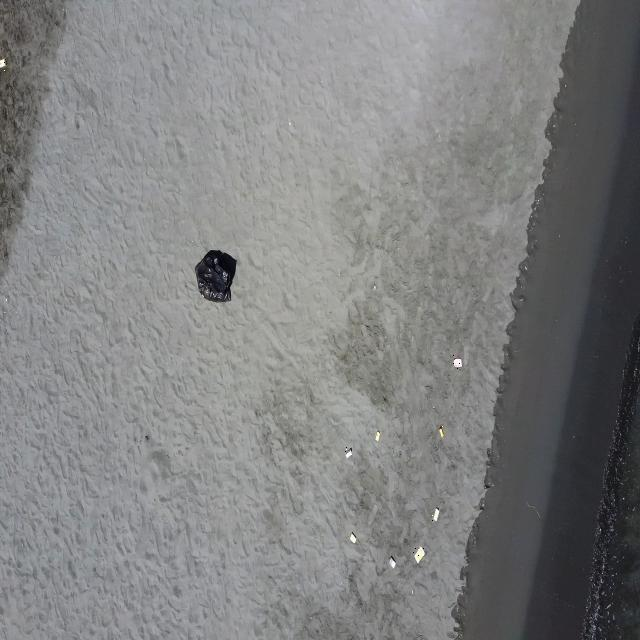retort-pouch: (412, 547, 424, 564), (452, 355, 463, 369), (432, 508, 441, 522), (0, 57, 8, 71), (345, 447, 354, 459), (348, 530, 357, 542), (388, 556, 396, 568), (438, 426, 446, 436), (374, 431, 381, 442)
